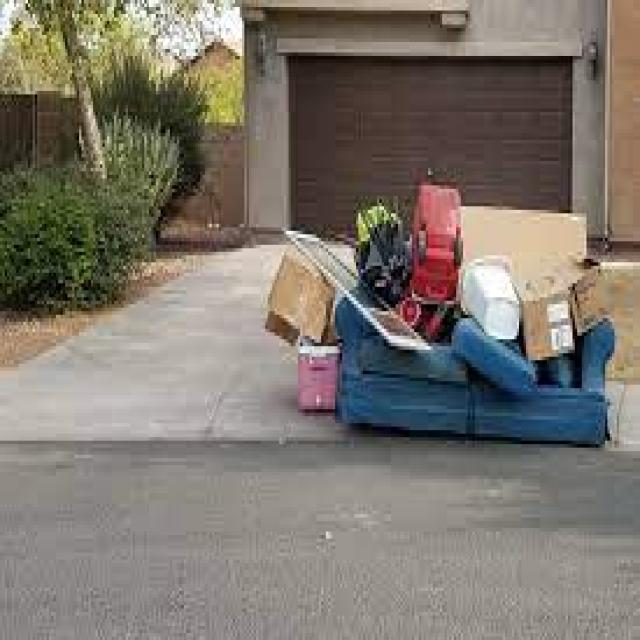House: (249, 0, 640, 255), (158, 40, 245, 122)
